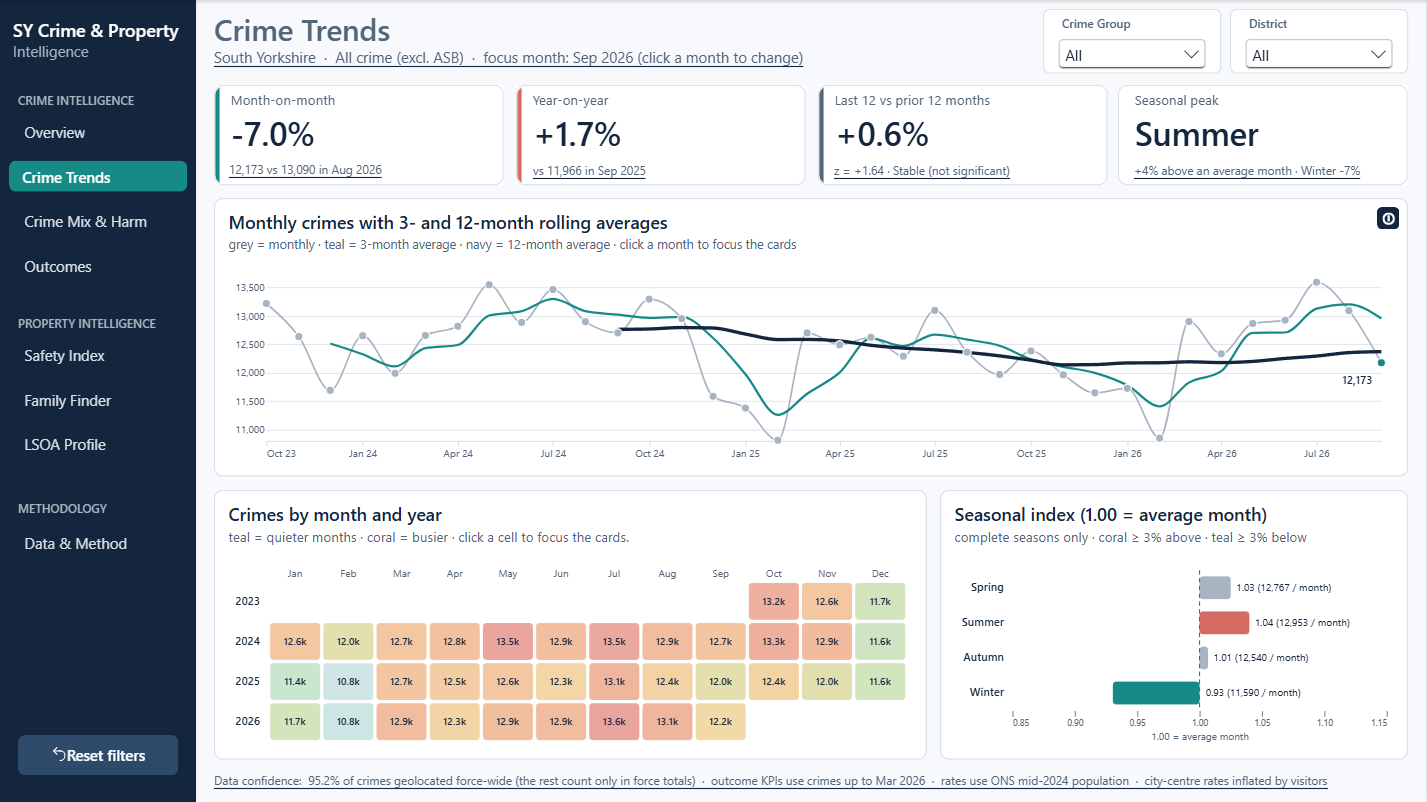

This screenshot's page, from the dashboard's own definition file:
{"tool":"powerbi","page":{"name":"Crime Trends","canvas":[1280,720],"ordinal":1},"visuals":[{"type":"shape","box":[0,0,176,720],"z":0,"group":"g1"},{"type":"group","id":"g1","title":"Nav rail","box":[0,0,176,720],"z":0},{"type":"cardVisual","fields":{"Data":["_Measures.YoY % (Focus)"]},"box":[463,76,260,90],"z":0,"group":"g3"},{"type":"cardVisual","fields":{"Data":["_Measures.Last 12 vs Prior 12 %"]},"box":[734,76,260,90],"z":0,"group":"g4"},{"type":"cardVisual","fields":{"Data":["_Measures.Peak Season"]},"box":[1004,76,260,90],"z":0,"group":"g5"},{"type":"cardVisual","title":"Card","fields":{"Data":["_Measures.MoM % (Focus)"]},"box":[192.1,76.3,260,90],"z":0,"group":"g2"},{"type":"slicer","fields":{"Values":["LSOA.Local Authority"]},"box":[1104,8,160,58],"z":1000},{"type":"textbox","box":[12,16,160,56],"z":1000,"group":"g1"},{"type":"textbox","box":[206,142,232,18],"z":1000,"group":"g2"},{"type":"textbox","box":[477.9,142,232,18],"z":1000,"group":"g3"},{"type":"textbox","box":[748,142,232,18],"z":1000,"group":"g4"},{"type":"textbox","box":[1018.6,142,232,18],"z":1000,"group":"g5"},{"type":"textbox","box":[16,80,156,20],"z":2000,"group":"g1"},{"type":"textbox","box":[192,690,1072,22],"z":2000},{"type":"slicer","fields":{"Values":["Crime Category.Crime Group"]},"box":[936,8,160,58],"z":3000},{"type":"textbox","box":[16,280,156,20],"z":3000,"group":"g1"},{"type":"textbox","box":[192,8,640,36],"z":4000},{"type":"textbox","box":[16,446,156,20],"z":4000,"group":"g1"},{"type":"textbox","box":[192,42,720,22],"z":5000},{"type":"pageNavigator","box":[8,104,160,150],"z":5000,"group":"g1"},{"type":"group","id":"g2","title":"KPI P2-1","box":[192.1,76.3,260,90],"z":6000},{"type":"pageNavigator","box":[8,304,160,108],"z":6000,"group":"g1"},{"type":"group","id":"g3","title":"KPI P2-2","box":[463,76,260,90],"z":7000},{"type":"pageNavigator","box":[8,470,160.1,32],"z":7000,"group":"g1"},{"type":"group","id":"g4","title":"KPI P2-3","box":[734,76,260,90],"z":8000},{"type":"actionButton","box":[16,660,144,36],"z":8000,"group":"g1"},{"type":"group","id":"g5","title":"KPI P2-4","box":[1004,76,260,90],"z":9000},{"type":"deneb7E15AEF80B9E4D4F8E12924291ECE89A","title":"Monthly crimes with 3- and 12-month rolling averages","fields":{"dataset":["Month.Month Start","_Measures.Crimes (excl. ASB)","_Measures.Rolling 3-Month Avg","_Measures.Rolling 12-Month Avg"]},"box":[192,178,1072,250],"z":10000},{"type":"actionButton","box":[1236,186,20,20],"z":11000},{"type":"deneb7E15AEF80B9E4D4F8E12924291ECE89A","title":"Crimes by month and year","fields":{"dataset":["Month.Year","Month.Month No","Month.Month Short","_Measures.Crimes (excl. ASB)"]},"box":[192,440,640,242],"z":12000},{"type":"deneb7E15AEF80B9E4D4F8E12924291ECE89A","title":"Seasonal index (1.00 = average month)","fields":{"dataset":["Month.Season","Month.Season Sort","_Measures.Seasonal Index","_Measures.Avg Monthly Crimes (Complete Seasons)"]},"box":[844,440,420,242],"z":13000}]}

Visuals, with their boxes on the page's 1280x720 design canvas (x1, y1, x2, y2). These are canvas units, not pixel positions in the 1427x802 screenshot, which may show the page scaled, cropped or inside an application window:
shape: x1=0 y1=0 x2=176 y2=720
"Nav rail" group: x1=0 y1=0 x2=176 y2=720
cardVisual - _Measures.YoY % (Focus): x1=463 y1=76 x2=723 y2=166
cardVisual - _Measures.Last 12 vs Prior 12 %: x1=734 y1=76 x2=994 y2=166
cardVisual - _Measures.Peak Season: x1=1004 y1=76 x2=1264 y2=166
"Card" cardVisual: x1=192 y1=76 x2=452 y2=166
slicer - LSOA.Local Authority: x1=1104 y1=8 x2=1264 y2=66
textbox: x1=12 y1=16 x2=172 y2=72
textbox: x1=206 y1=142 x2=438 y2=160
textbox: x1=478 y1=142 x2=710 y2=160
textbox: x1=748 y1=142 x2=980 y2=160
textbox: x1=1019 y1=142 x2=1251 y2=160
textbox: x1=16 y1=80 x2=172 y2=100
textbox: x1=192 y1=690 x2=1264 y2=712
slicer - Crime Category.Crime Group: x1=936 y1=8 x2=1096 y2=66
textbox: x1=16 y1=280 x2=172 y2=300
textbox: x1=192 y1=8 x2=832 y2=44
textbox: x1=16 y1=446 x2=172 y2=466
textbox: x1=192 y1=42 x2=912 y2=64
pageNavigator: x1=8 y1=104 x2=168 y2=254
"KPI P2-1" group: x1=192 y1=76 x2=452 y2=166
pageNavigator: x1=8 y1=304 x2=168 y2=412
"KPI P2-2" group: x1=463 y1=76 x2=723 y2=166
pageNavigator: x1=8 y1=470 x2=168 y2=502
"KPI P2-3" group: x1=734 y1=76 x2=994 y2=166
actionButton: x1=16 y1=660 x2=160 y2=696
"KPI P2-4" group: x1=1004 y1=76 x2=1264 y2=166
"Monthly crimes with 3- and 12-month rolling averages" deneb7E15AEF80B9E4D4F8E12924291ECE89A: x1=192 y1=178 x2=1264 y2=428
actionButton: x1=1236 y1=186 x2=1256 y2=206
"Crimes by month and year" deneb7E15AEF80B9E4D4F8E12924291ECE89A: x1=192 y1=440 x2=832 y2=682
"Seasonal index (1.00 = average month)" deneb7E15AEF80B9E4D4F8E12924291ECE89A: x1=844 y1=440 x2=1264 y2=682
